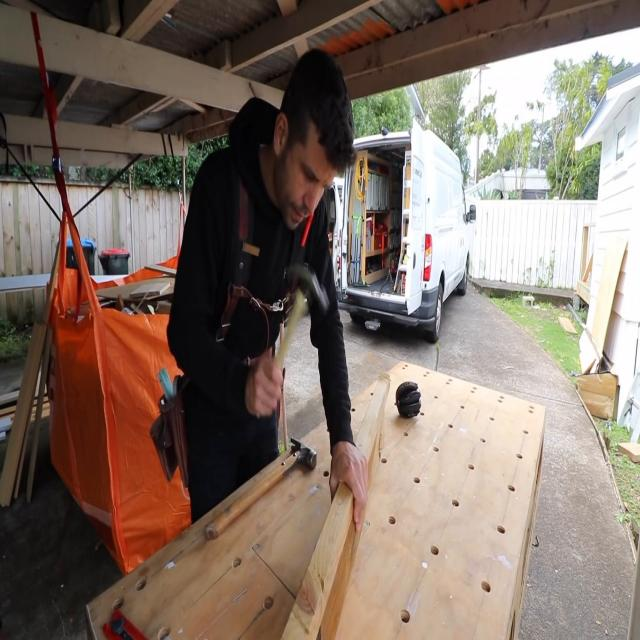hammer: (206, 437, 316, 539)
